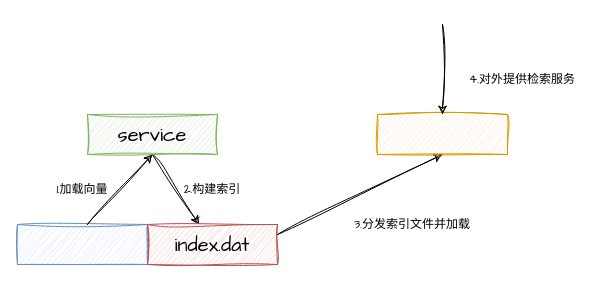
Some shapes in this 605 by 282 pixel diagram are drawn without their labels. The centre of each missing label's shape, as x and y in pixels:
index service: the point at 442,134
vector.csv: the point at 82,244
